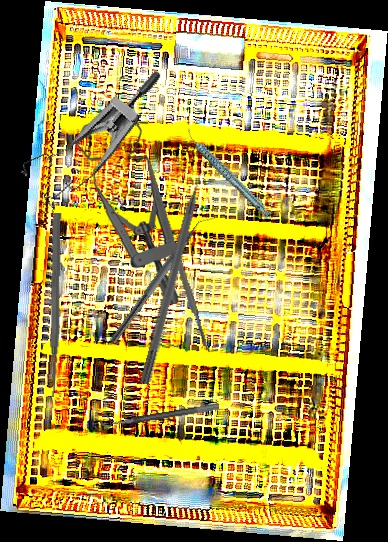Chopper: (109, 207, 217, 351)
Fixation Ring: (98, 392, 220, 430)
Handpiece: (184, 115, 271, 230)
Pusher: (139, 157, 212, 386), (47, 212, 63, 398)
Scalpel Handle: (144, 159, 209, 349)
Speculum: (10, 35, 164, 226), (71, 117, 186, 305)
